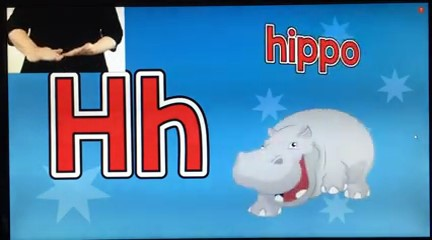H: (19, 31, 121, 64)
